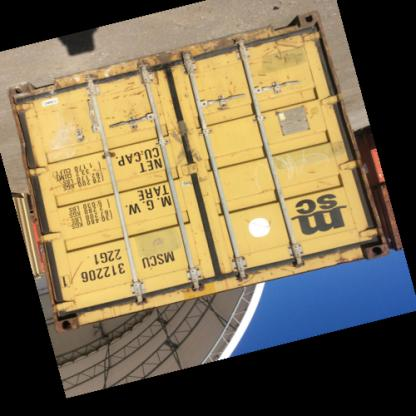Damage: (251, 35, 314, 92), (178, 62, 236, 108), (107, 76, 148, 126), (26, 101, 84, 127), (164, 280, 206, 306), (306, 165, 338, 196), (17, 131, 37, 173), (47, 175, 81, 199), (66, 260, 89, 292), (144, 234, 176, 256), (330, 249, 360, 272), (322, 138, 346, 162), (234, 267, 256, 291), (125, 294, 153, 312), (276, 262, 300, 280), (253, 186, 271, 204), (150, 171, 166, 189)
